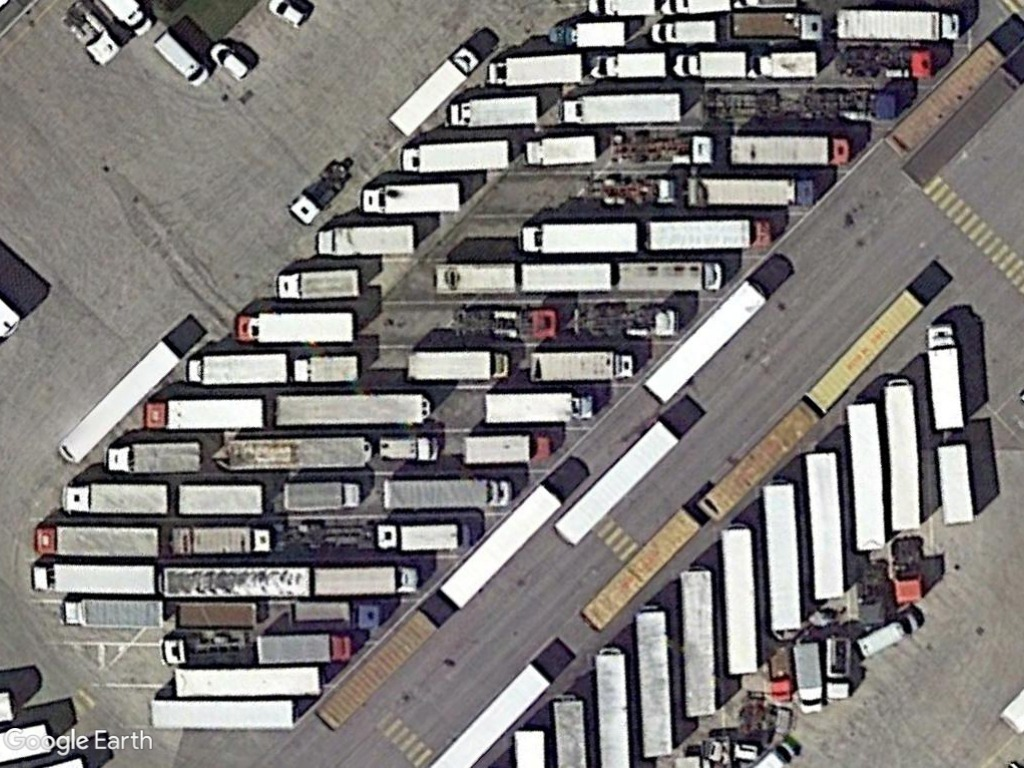car: (205, 40, 252, 83), (263, 0, 311, 31)
longvehicle: (551, 414, 687, 553), (639, 269, 767, 407), (54, 331, 181, 468), (436, 480, 562, 614), (314, 602, 440, 734), (884, 32, 1006, 160), (800, 443, 850, 604), (757, 478, 806, 638), (842, 397, 889, 555), (675, 564, 722, 721), (881, 374, 925, 537), (629, 604, 674, 762), (715, 523, 759, 680), (270, 392, 434, 432), (220, 432, 371, 475), (146, 693, 300, 734), (170, 663, 327, 699), (831, 4, 965, 45), (589, 645, 633, 768), (161, 565, 314, 599), (723, 130, 853, 169), (171, 480, 269, 521), (934, 436, 976, 529), (515, 259, 616, 297), (428, 260, 522, 299)
other: (723, 8, 829, 46), (819, 632, 855, 702), (373, 432, 445, 466)
truck: (381, 40, 484, 142), (920, 319, 969, 434), (375, 474, 515, 514), (30, 520, 163, 562), (638, 215, 776, 255), (558, 88, 687, 129), (516, 217, 644, 258), (232, 307, 358, 348), (477, 387, 598, 428), (521, 345, 638, 387), (142, 395, 267, 434), (684, 174, 818, 210), (26, 561, 159, 597), (398, 135, 514, 176), (58, 482, 171, 523), (403, 346, 514, 386), (616, 259, 724, 299), (102, 437, 205, 478), (58, 592, 166, 631), (314, 221, 416, 262), (183, 351, 291, 389), (167, 523, 275, 561), (480, 52, 590, 89), (310, 564, 422, 599), (251, 630, 356, 667), (270, 265, 366, 305), (443, 95, 544, 133), (457, 430, 559, 467), (358, 183, 465, 217), (279, 476, 366, 514), (395, 518, 476, 555), (287, 350, 365, 387), (520, 133, 598, 169), (669, 48, 750, 81), (545, 20, 631, 51), (746, 48, 821, 83), (588, 53, 673, 81), (646, 18, 722, 47)
van: (853, 606, 924, 663), (148, 30, 209, 89), (791, 641, 826, 719)
